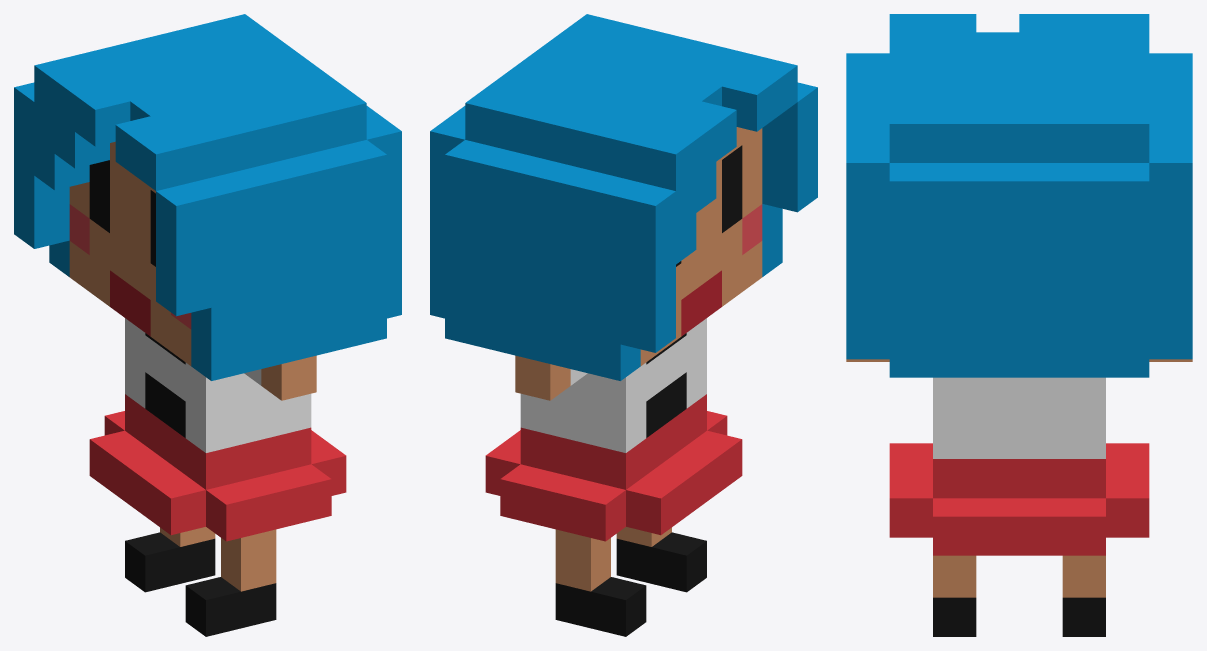
File: Char05.obj
3 views of the same model, side by side, from view 1: azimuth 30°, elevation 25°; view 2: azimuth 150°, elevation 25°; view 3: azimuth 270°, elevation 25° (orthographic). The views are drawn at different scales.
Size of the model in its own units: 0.7 by 1.4 by 0.8.
1 material, 1 textured.
